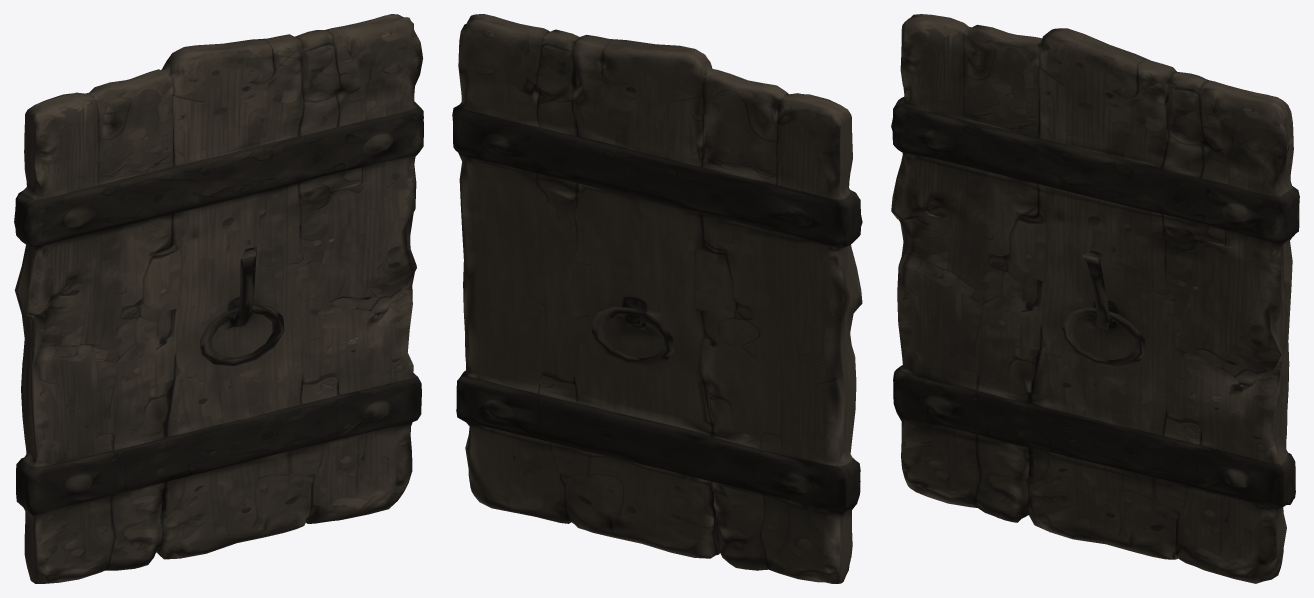
Rendered from gate.obj.
3 views of the same model, side by side, from view 1: azimuth 30°, elevation 25°; view 2: azimuth 150°, elevation 25°; view 3: azimuth 330°, elevation 25° (orthographic).
Visible parts, largest first — view 1: gate; view 2: gate; view 3: gate.
Boxes of the visible parts, bbox=[...] form: gate: bbox=[14, 14, 423, 583]; gate: bbox=[452, 14, 862, 583]; gate: bbox=[891, 14, 1299, 583].
Bounding box in the file's own units: 2 × 2.4 × 0.24.
Materials: 1 (1 with a texture image).
